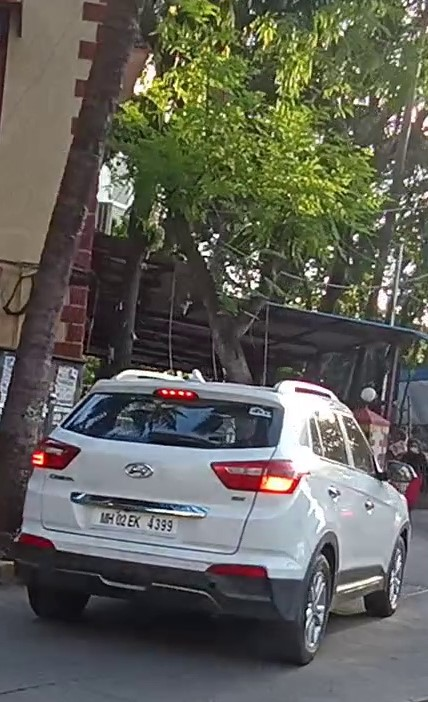MH02EK4399: (90, 500, 179, 538)
